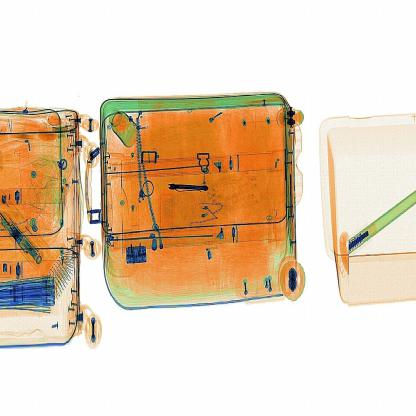knife: (169, 180, 210, 196)
